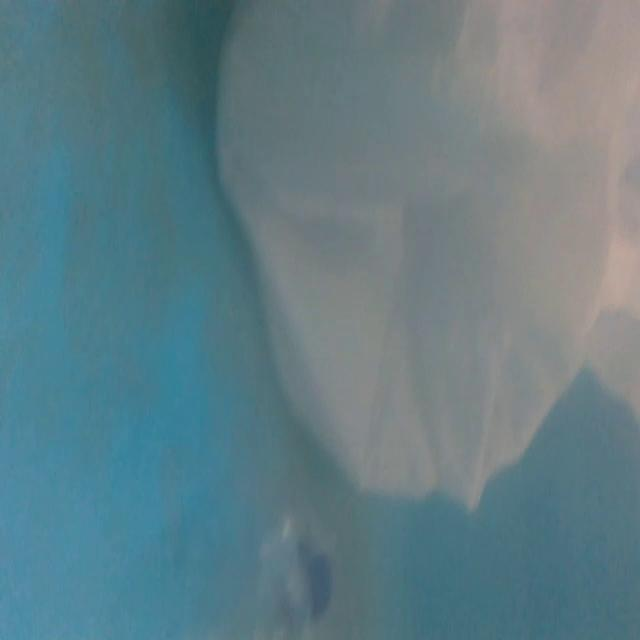plastic bags: (211, 7, 635, 508), (247, 525, 337, 640)
